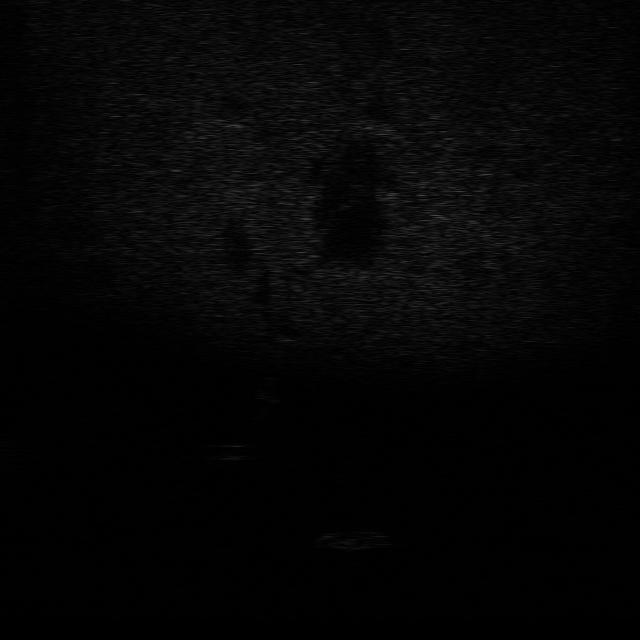ball: (215, 438, 256, 463)
circle cage: (315, 525, 390, 554)
human body: (250, 369, 284, 425)
